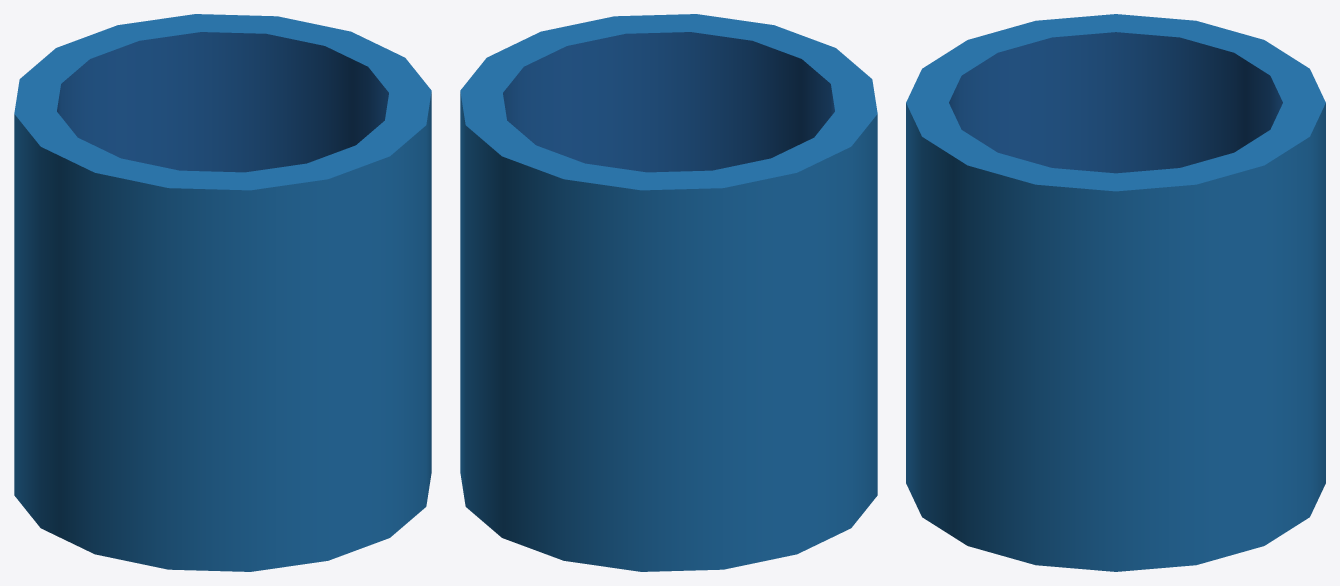
The model's file is pipe-straight-a-blue.glb.
3 renders of one model, left to right at view 1: azimuth 30°, elevation 25°; view 2: azimuth 150°, elevation 25°; view 3: azimuth 270°, elevation 25°, orthographic.
Visible parts, largest first — view 1: pipe_straight_A_blue; view 2: pipe_straight_A_blue; view 3: pipe_straight_A_blue.
Boxes of the visible parts, left/top/right/bottom form: pipe_straight_A_blue: left=14, top=14, right=431, bottom=571; pipe_straight_A_blue: left=460, top=14, right=877, bottom=571; pipe_straight_A_blue: left=906, top=14, right=1325, bottom=571.
Size of the model in its own units: 2 by 2 by 2.
Materials: 1 (1 with a texture image).
